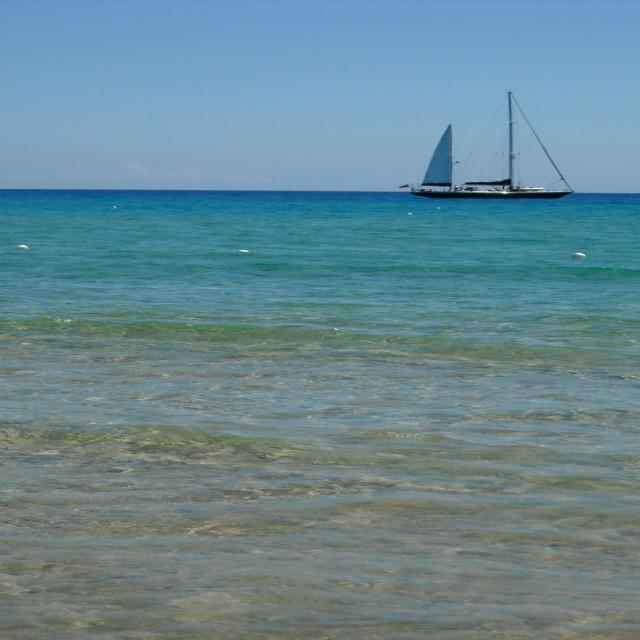Boat: (392, 91, 564, 205)
